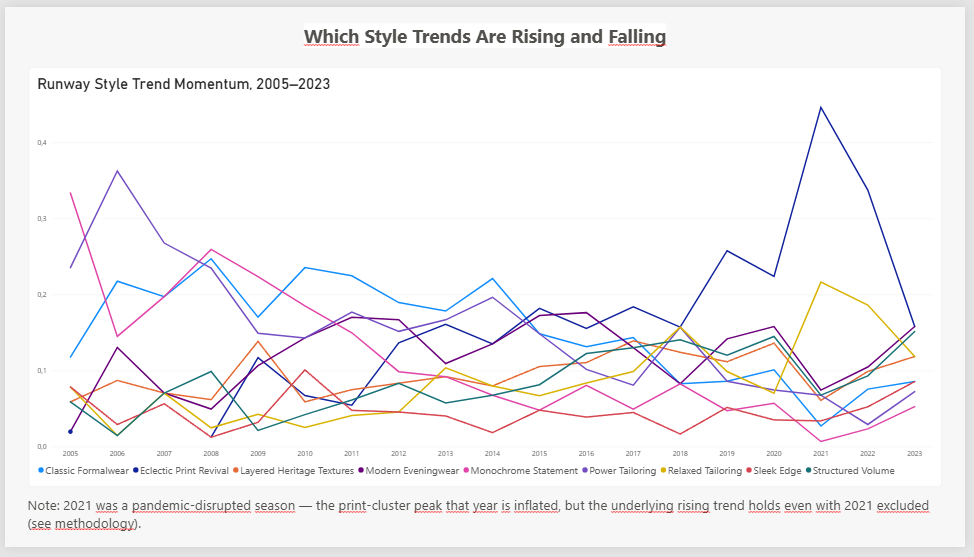

Layout of this report page (visuals, bound fields, positions):
{"tool":"powerbi","page":{"name":"Cluster Trends","canvas":[1920,1080],"ordinal":0},"visuals":[{"type":"lineChart","title":"Runway Style Trend Momentum, 2005-2023","fields":{"Category":["cluster_share_by_year.year"],"Series":["cluster_share_by_year.business_name"],"Y":["Sum(cluster_share_by_year.share)"]},"box":[56.7,160,1796.7,740],"z":0},{"type":"textbox","box":[56.7,950,1796.7,80],"z":1000},{"type":"textbox","box":[0,46.7,1920,113.3],"z":2000}]}

Visuals, with their boxes in screenshot pixels (x1, y1, x2, y2), scaled from the page's 1920x1080 canvas onto the 974x557 screenshot:
"Runway Style Trend Momentum, 2005-2023" lineChart: [left=29, top=83, right=940, bottom=464]
textbox: [left=29, top=490, right=940, bottom=531]
textbox: [left=0, top=24, right=973, bottom=83]
